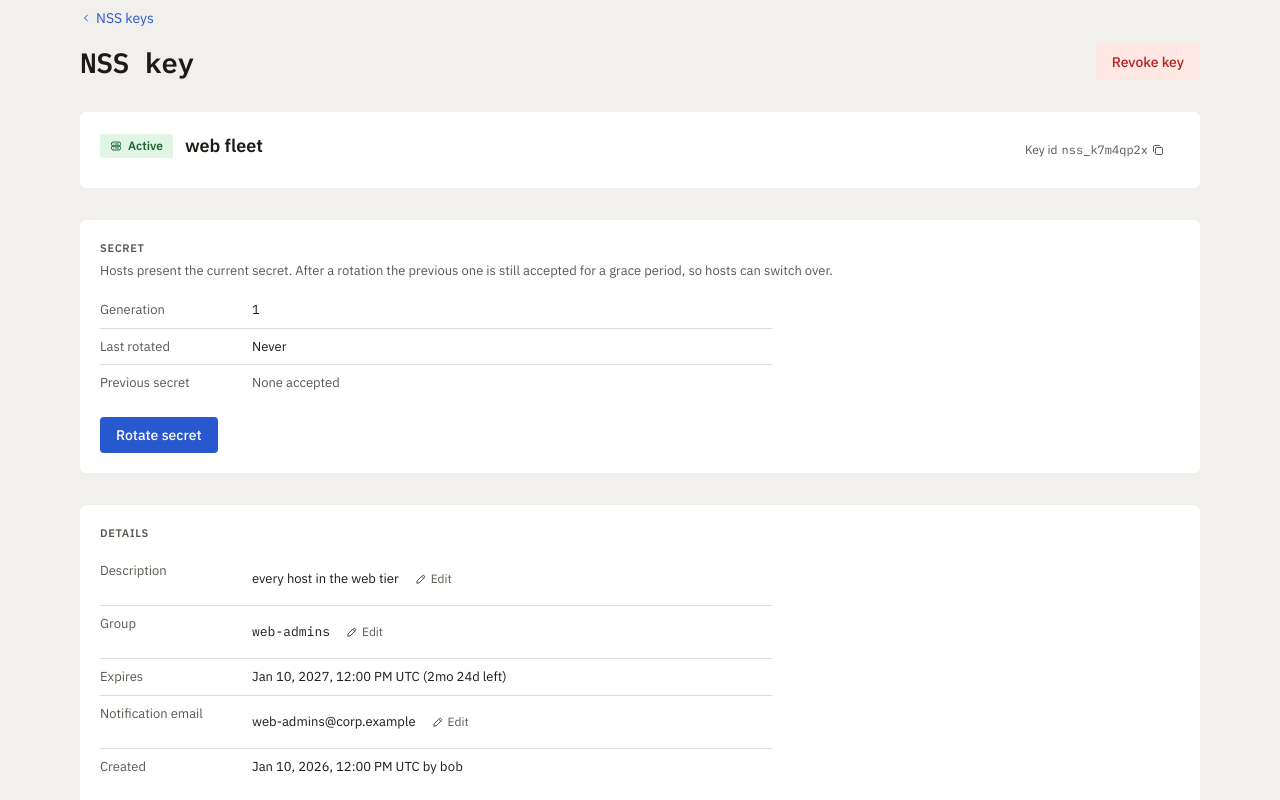
NSS key detail › revoke › should put the caret back on Revoke key when the dialog is cancelled
This screenshot has width=1280, height=800.
Expected: the element with test id "nss-key-identity" is shown, top-left (80, 112), bottom-right (1200, 188)
Click the button with test id "nss-key-revoke" at (1148, 62), box top-left (1096, 44), bottom-right (1200, 80)
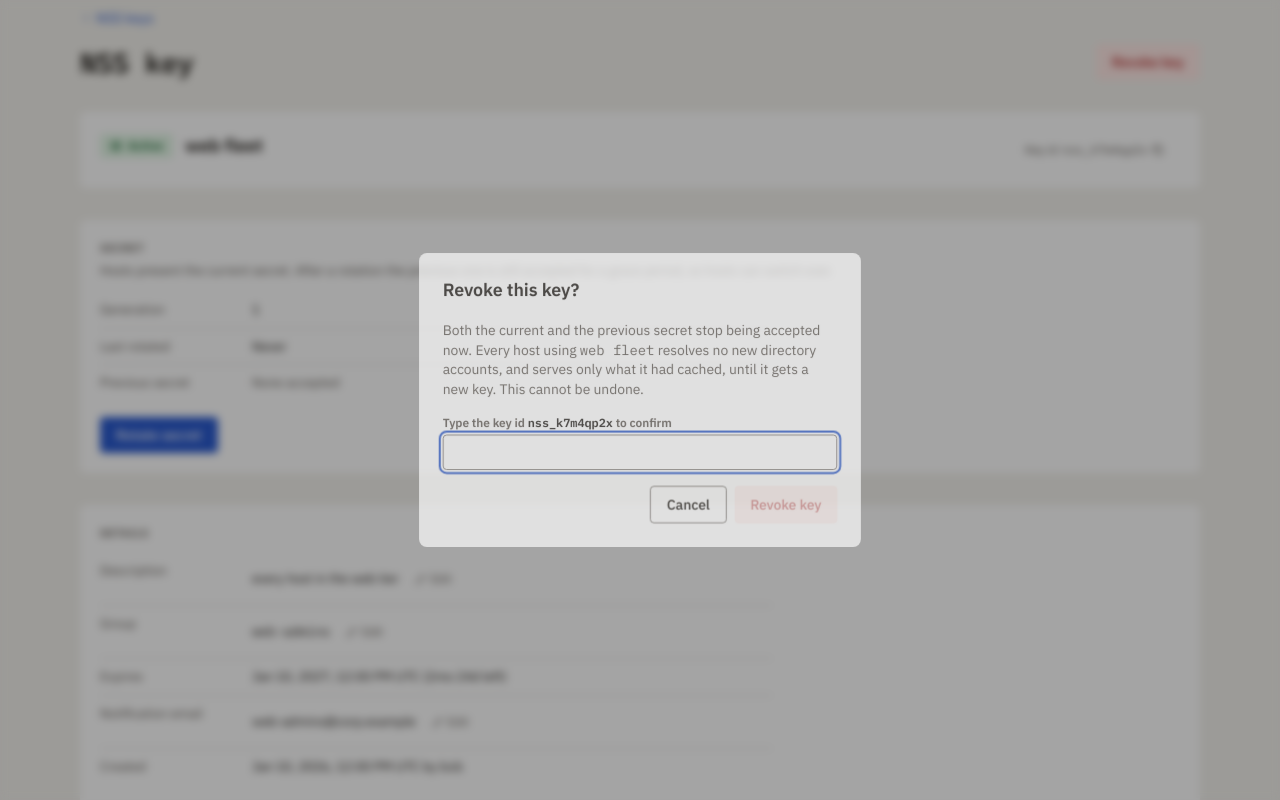
Click the button "Cancel" at (689, 506), box top-left (650, 487), bottom-right (727, 524)
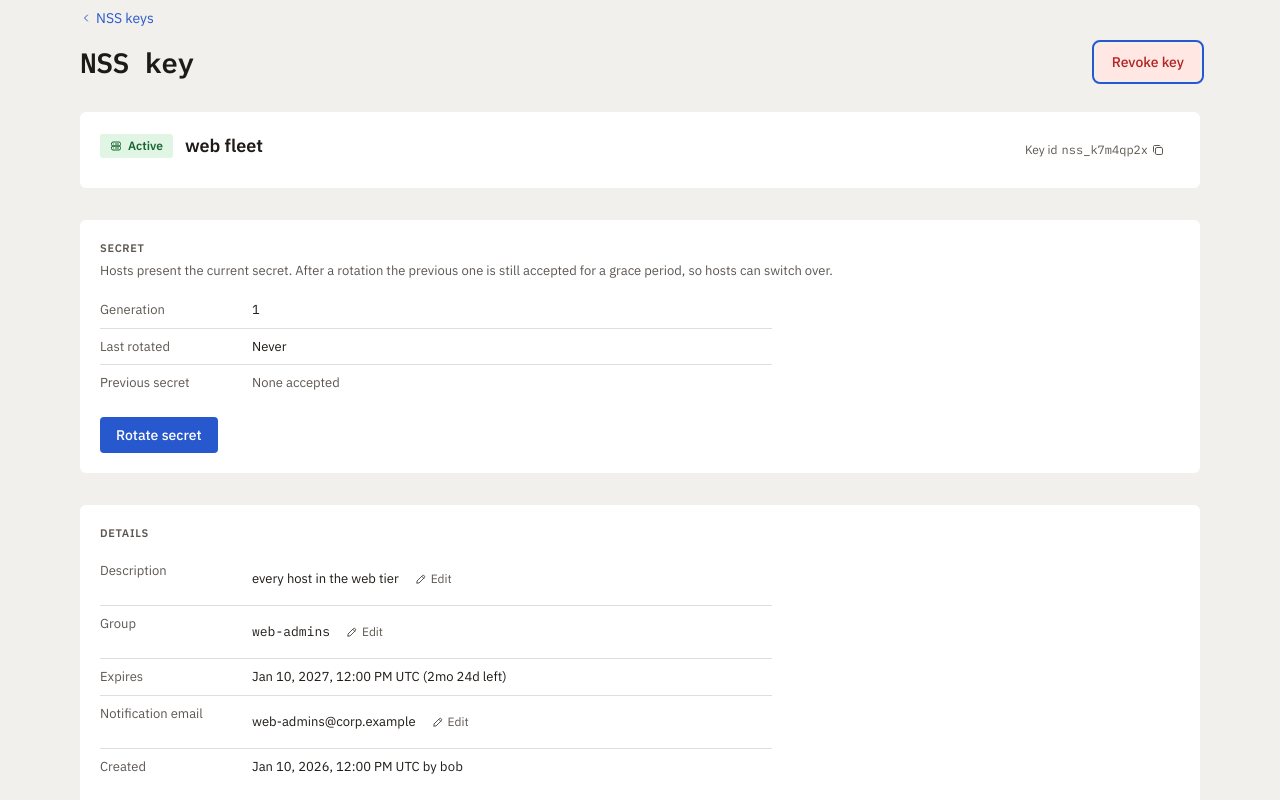
Now the button with test id "nss-key-revoke-confirm" is gone
